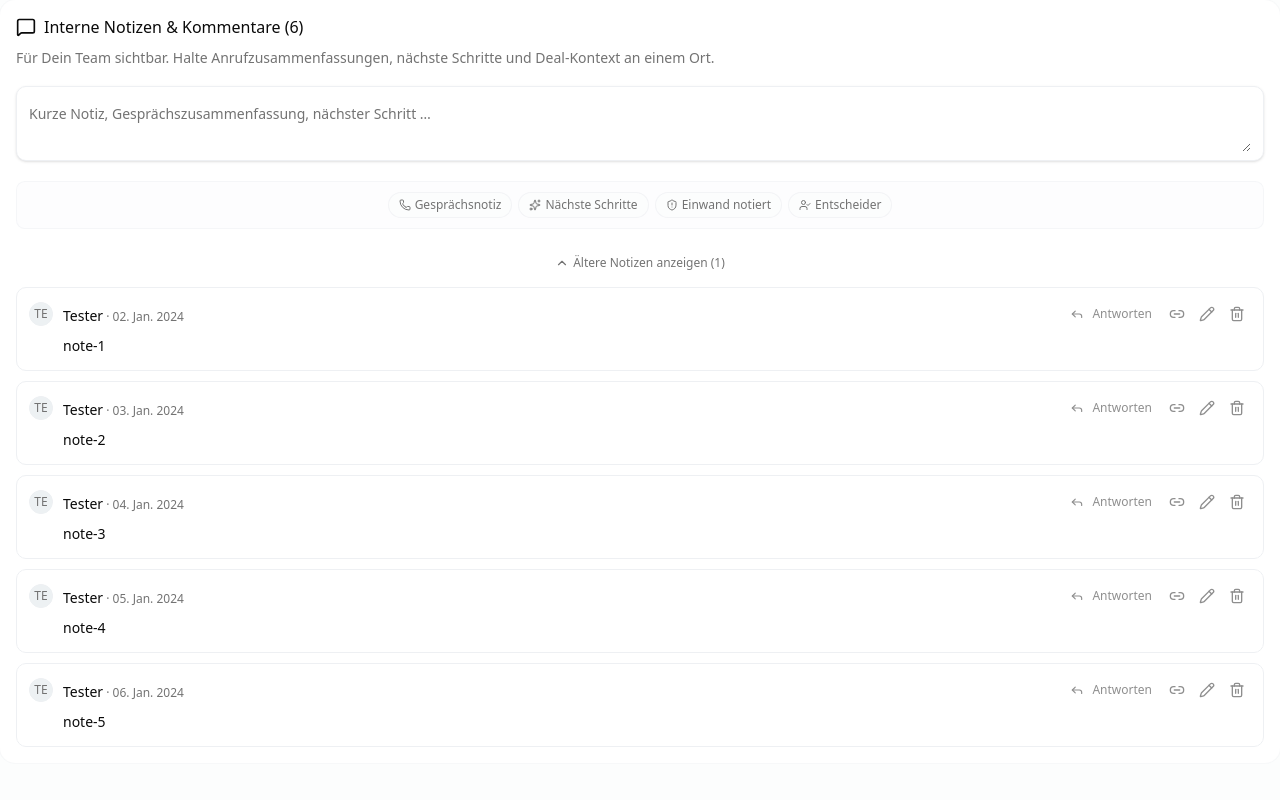
Test: CompanyCommentsCard › shows older roots toggle when more than five root notes exist
Click the button "Ältere Notizen anzeigen (1)": (640, 263) x1=16 y1=249 x2=1264 y2=277
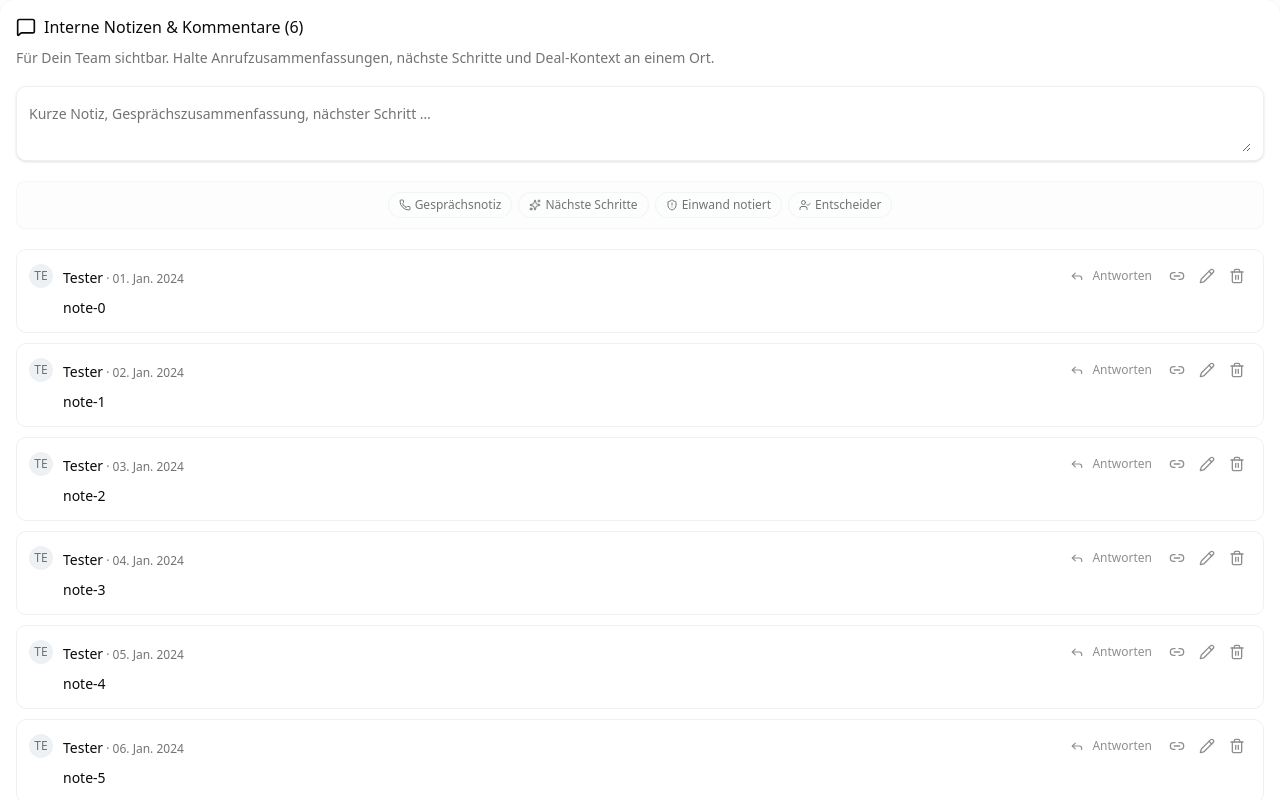
Now the text "note-0" is shown, box x1=63 y1=298 x2=106 y2=317
